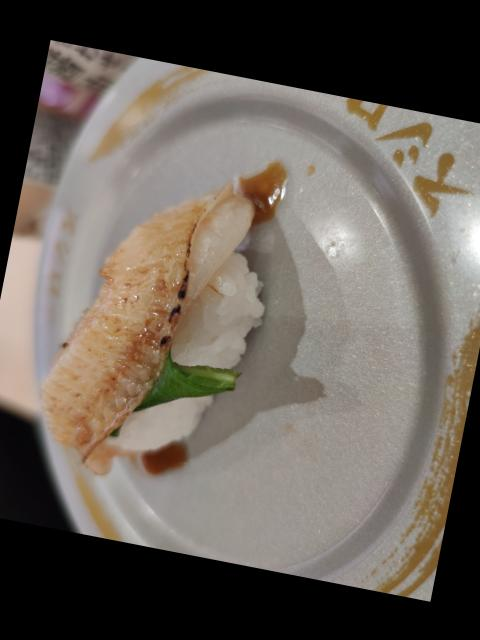janwhite: (1, 47, 480, 601)
